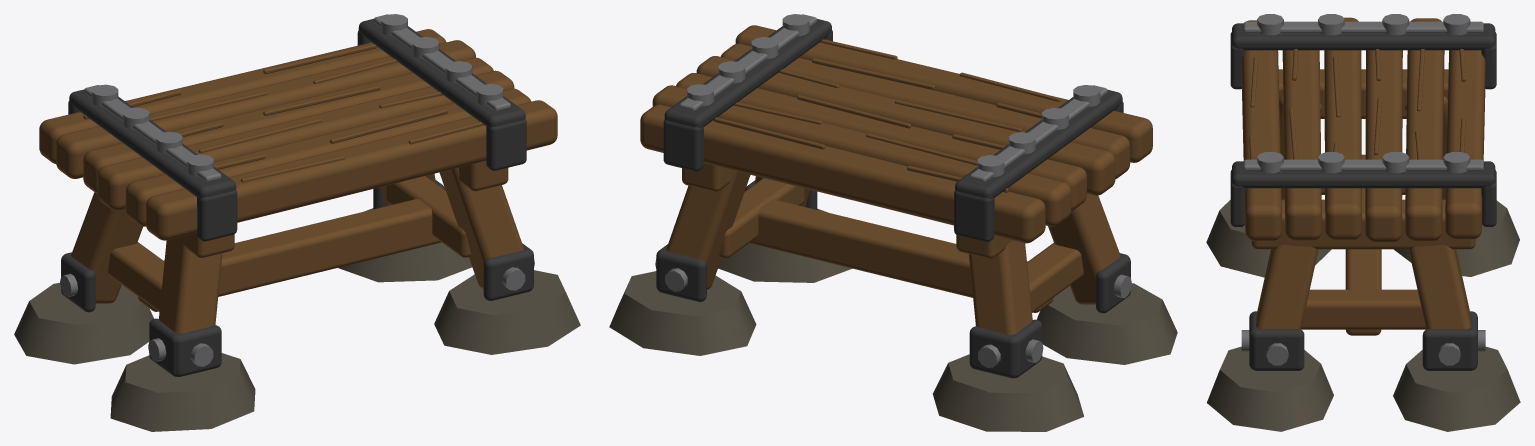
File: bench.glb
3 views of the same model, side by side, from view 1: azimuth 30°, elevation 25°; view 2: azimuth 150°, elevation 25°; view 3: azimuth 270°, elevation 25° (orthographic). The views are drawn at different scales.
Visible parts, largest first — view 1: bench-farm-wood-shadow, bench-farm-stone-dark, bench-farm-roof-slate, bench-farm-metal; view 2: bench-farm-wood-shadow, bench-farm-stone-dark, bench-farm-roof-slate, bench-farm-metal; view 3: bench-farm-wood-shadow, bench-farm-stone-dark, bench-farm-roof-slate, bench-farm-metal.
Part boxes in pixels (x1,y1,x2,y2): bench-farm-wood-shadow: (39, 29, 557, 333); bench-farm-stone-dark: (14, 208, 580, 431); bench-farm-roof-slate: (61, 19, 533, 376); bench-farm-metal: (60, 14, 534, 366); bench-farm-wood-shadow: (640, 25, 1152, 334); bench-farm-stone-dark: (609, 208, 1177, 431); bench-farm-roof-slate: (656, 19, 1130, 378); bench-farm-metal: (655, 14, 1131, 367); bench-farm-wood-shadow: (1241, 17, 1485, 335); bench-farm-stone-dark: (1206, 200, 1520, 431); bench-farm-roof-slate: (1230, 23, 1496, 370); bench-farm-metal: (1241, 14, 1485, 365).
Bounding box in the file's own units: 2.91 × 1.44 × 1.75.
